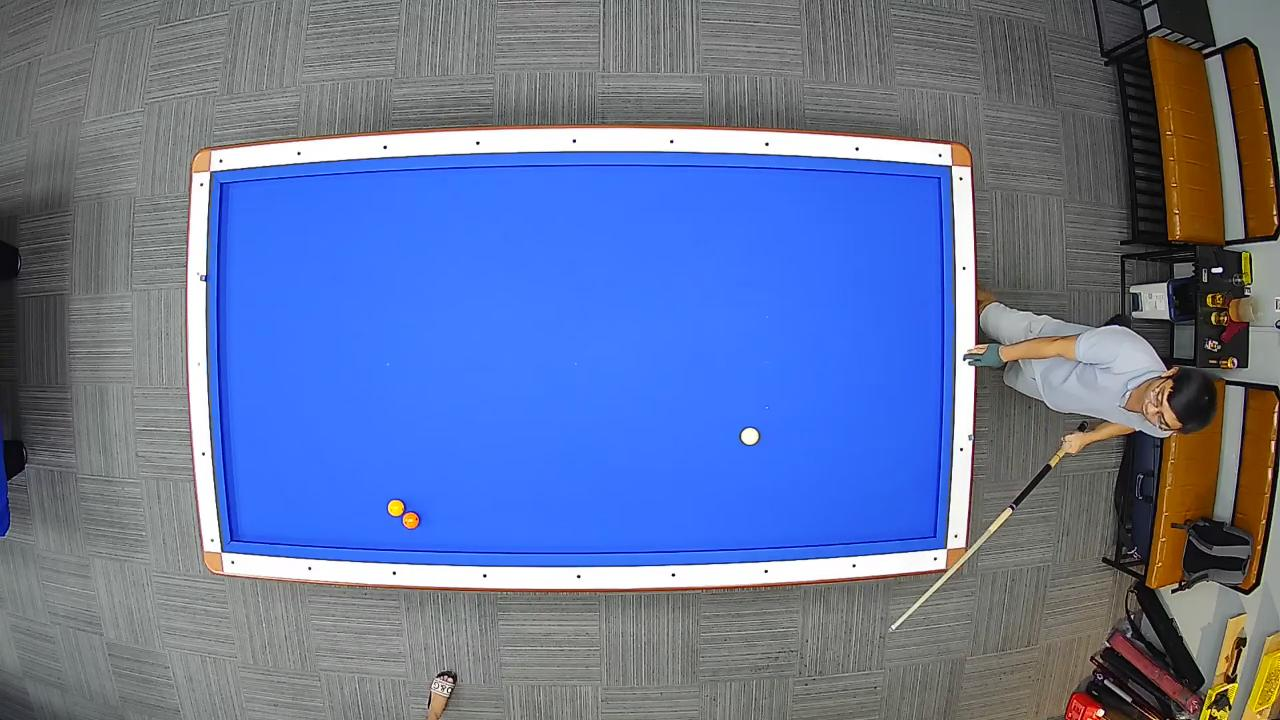Orange: (401, 510, 420, 530)
White: (740, 426, 761, 446)
Yellow: (386, 498, 406, 517)
